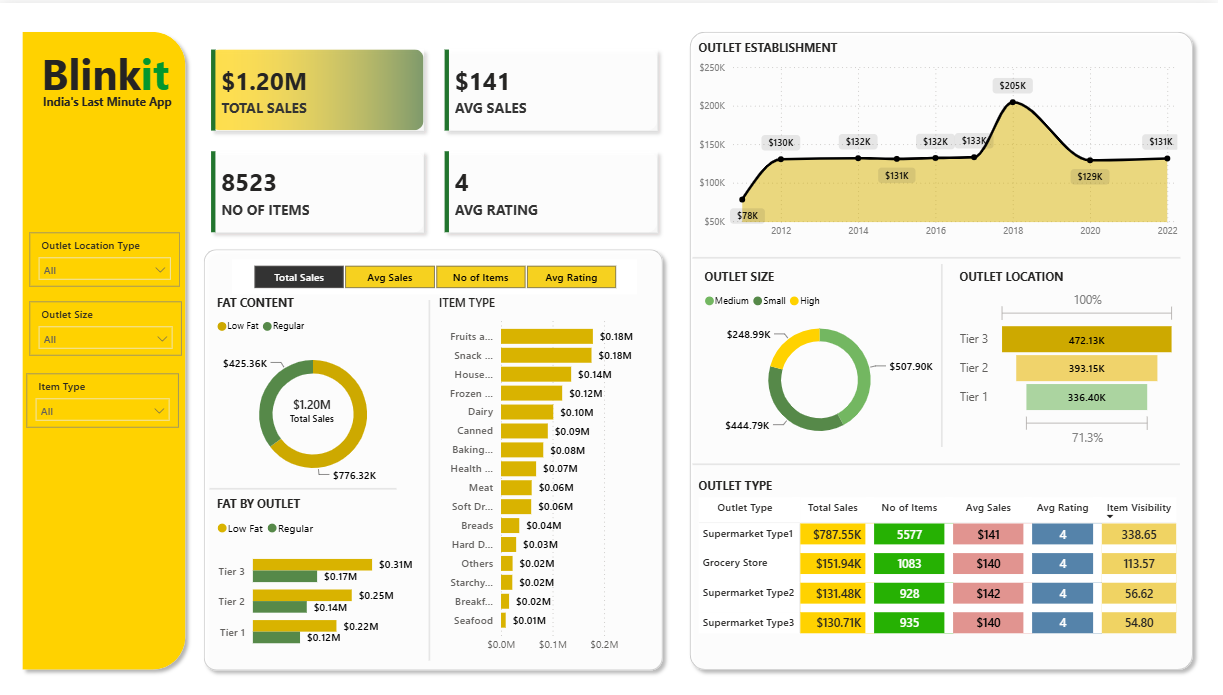

This screenshot's page, from the dashboard's own definition file:
{"tool":"powerbi","page":{"name":"Page 1","canvas":[1400,800],"ordinal":0},"visuals":[{"type":"shape","box":[19,24.1,205,750],"z":0},{"type":"textbox","box":[36.2,43.1,174,74.1],"z":1000},{"type":"textbox","box":[46.5,98.2,161.9,36.2],"z":2000},{"type":"cardVisual","fields":{"Data":["BlinkIT Grocery Data.Total Sales","BlinkIT Grocery Data.Avg Sales","BlinkIT Grocery Data.No of Items","BlinkIT Grocery Data.Avg Rating"]},"box":[214.7,24.3,570.9,270],"z":3000},{"type":"shape","box":[227.8,273.3,544.5,501.1],"z":4000},{"type":"donutChart","title":"FAT CONTENT","fields":{"Category":["BlinkIT Grocery Data.Item Fat Content"],"Y":["BlinkIT Grocery Data.Total Sales"]},"box":[245.6,334.1,230.1,230.1],"z":5000},{"type":"slicer","fields":{"Values":["Metrics.Metrics"]},"box":[267.8,294.3,464.7,39.8],"z":6000},{"type":"cardVisual","fields":{"Data":["BlinkIT Grocery Data.Total Sales"]},"box":[296.5,424.9,128.3,84.1],"z":7000},{"type":"clusteredBarChart","title":"FAT BY OUTLET","fields":{"Category":["BlinkIT Grocery Data.Outlet Location Type"],"Series":["BlinkIT Grocery Data.Item Fat Content"],"Y":["BlinkIT Grocery Data.Total Sales"]},"box":[245.6,564.3,234.6,190.3],"z":8000},{"type":"shape","box":[243.4,551,214.7,13.3],"z":9000},{"type":"shape","box":[475.8,340.8,39.8,413.8],"z":10000},{"type":"barChart","title":"ITEM TYPE","fields":{"Category":["BlinkIT Grocery Data.Item Type"],"Y":["BlinkIT Grocery Data.Total Sales"]},"box":[500.1,334.1,250.1,420.4],"z":11000},{"type":"shape","box":[785.6,24.3,595.3,750.2],"z":12000},{"type":"lineChart","title":"OUTLET ESTABLISHMENT","fields":{"Category":["BlinkIT Grocery Data.Outlet Establishment Year"],"Y":["BlinkIT Grocery Data.Total Sales"]},"box":[798.9,42,559.9,236.8],"z":13000},{"type":"shape","box":[796.6,270,559.9,44.3],"z":14000},{"type":"donutChart","title":"OUTLET SIZE","fields":{"Category":["BlinkIT Grocery Data.Outlet Size"],"Y":["BlinkIT Grocery Data.Total Sales"]},"box":[805.6,304.7,273.7,210],"z":15000},{"type":"shape","box":[1062.2,298.7,42,210.2],"z":16000},{"type":"funnel","title":"OUTLET LOCATION","fields":{"Category":["BlinkIT Grocery Data.Outlet Location Type"],"Y":["Sum(BlinkIT Grocery Data.Sales)"]},"box":[1098.2,304.7,258.2,210],"z":17000},{"type":"shape","box":[797,514.7,559.4,29.3],"z":18000},{"type":"pivotTable","title":"OUTLET TYPE","fields":{"Rows":["BlinkIT Grocery Data.Outlet Type"],"Values":["BlinkIT Grocery Data.Total Sales","BlinkIT Grocery Data.No of Items","BlinkIT Grocery Data.Avg Sales","BlinkIT Grocery Data.Avg Rating","Sum(BlinkIT Grocery Data.Item Visibility)"]},"box":[798.7,543.9,559.4,230.7],"z":19000},{"type":"slicer","fields":{"Values":["BlinkIT Grocery Data.Outlet Location Type"]},"box":[35.4,263.3,172.6,62],"z":20000},{"type":"slicer","fields":{"Values":["BlinkIT Grocery Data.Outlet Size"]},"box":[35.4,343,174.8,62],"z":20001},{"type":"slicer","fields":{"Values":["BlinkIT Grocery Data.Item Type"]},"box":[33.2,424.9,174.8,62],"z":20002}]}

Visuals, with their boxes in screenshot pixels (x1, y1, x2, y2), scaled from the page's 1400x800 canvas onto the 1223x695 screenshot:
shape: box=[17, 21, 196, 672]
textbox: box=[32, 37, 184, 102]
textbox: box=[41, 85, 182, 117]
cardVisual - BlinkIT Grocery Data.Total Sales x BlinkIT Grocery Data.Avg Sales: box=[188, 21, 686, 256]
shape: box=[199, 237, 675, 673]
"FAT CONTENT" donutChart: box=[215, 290, 416, 490]
slicer - Metrics.Metrics: box=[234, 256, 640, 290]
cardVisual - BlinkIT Grocery Data.Total Sales: box=[259, 369, 371, 442]
"FAT BY OUTLET" clusteredBarChart: box=[215, 490, 419, 656]
shape: box=[213, 479, 400, 490]
shape: box=[416, 296, 450, 656]
"ITEM TYPE" barChart: box=[437, 290, 655, 655]
shape: box=[686, 21, 1206, 673]
"OUTLET ESTABLISHMENT" lineChart: box=[698, 36, 1187, 242]
shape: box=[696, 235, 1185, 273]
"OUTLET SIZE" donutChart: box=[704, 265, 943, 447]
shape: box=[928, 259, 965, 442]
"OUTLET LOCATION" funnel: box=[959, 265, 1185, 447]
shape: box=[696, 447, 1185, 473]
"OUTLET TYPE" pivotTable: box=[698, 473, 1186, 673]
slicer - BlinkIT Grocery Data.Outlet Location Type: box=[31, 229, 182, 283]
slicer - BlinkIT Grocery Data.Outlet Size: box=[31, 298, 184, 352]
slicer - BlinkIT Grocery Data.Item Type: box=[29, 369, 182, 423]
